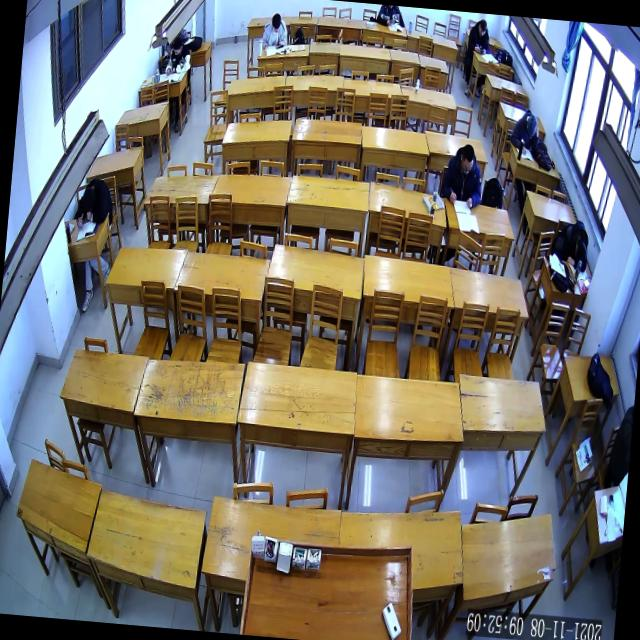bow: (72, 177, 116, 230), (554, 218, 590, 272)
down: (458, 144, 474, 175), (81, 186, 95, 212), (526, 114, 536, 137), (270, 13, 281, 33), (172, 36, 183, 56), (477, 18, 487, 36)
sit: (438, 142, 484, 209), (508, 108, 540, 156), (164, 34, 193, 76), (260, 12, 288, 50), (468, 18, 492, 54)
